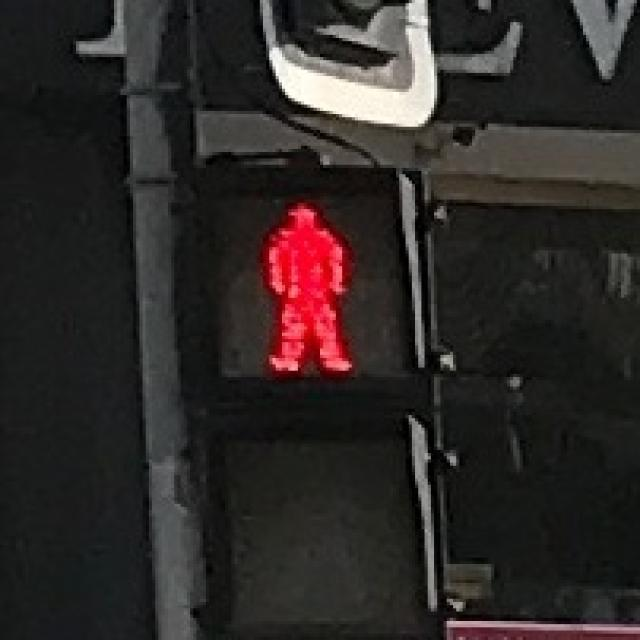red-crossing: (206, 174, 386, 390)
